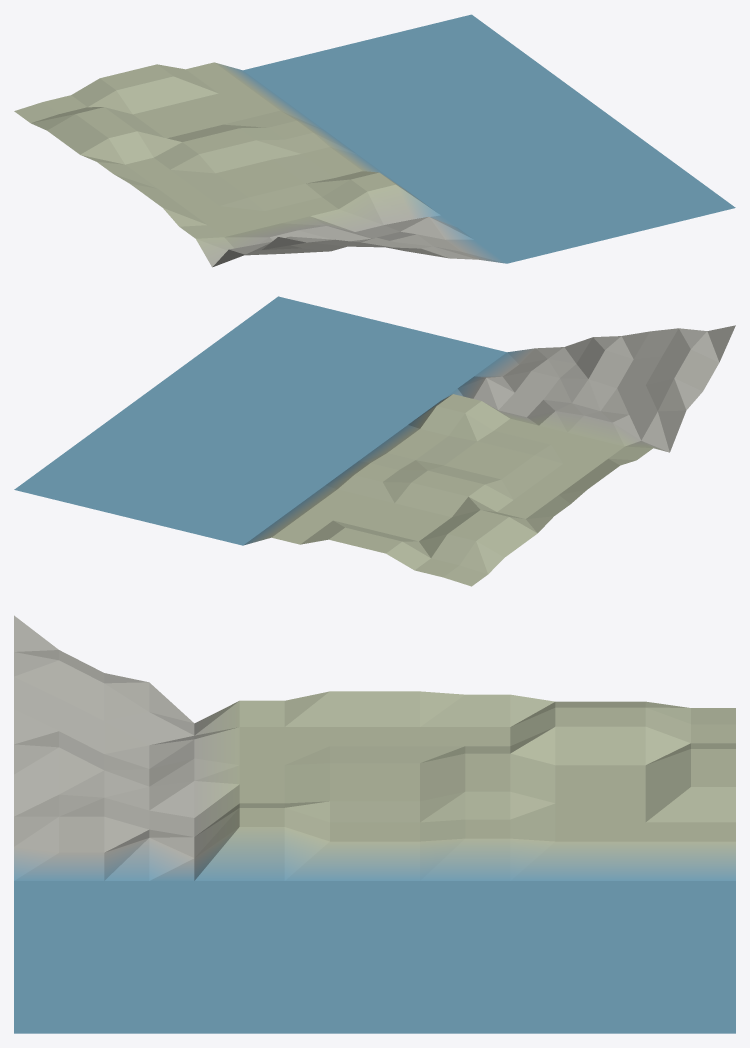
The picture shows the model from 3 angles, top to bottom: view 1: azimuth 30°, elevation 25°; view 2: azimuth 150°, elevation 25°; view 3: azimuth 270°, elevation 25°; orthographic projection. The views are drawn at different scales.
Bounding box in the file's own units: 32 × 5.53 × 32.
